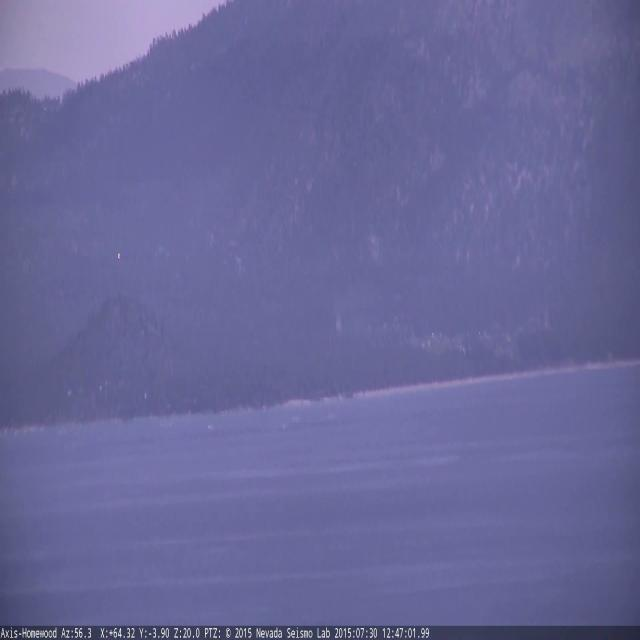smoke: (332, 297, 350, 343)
